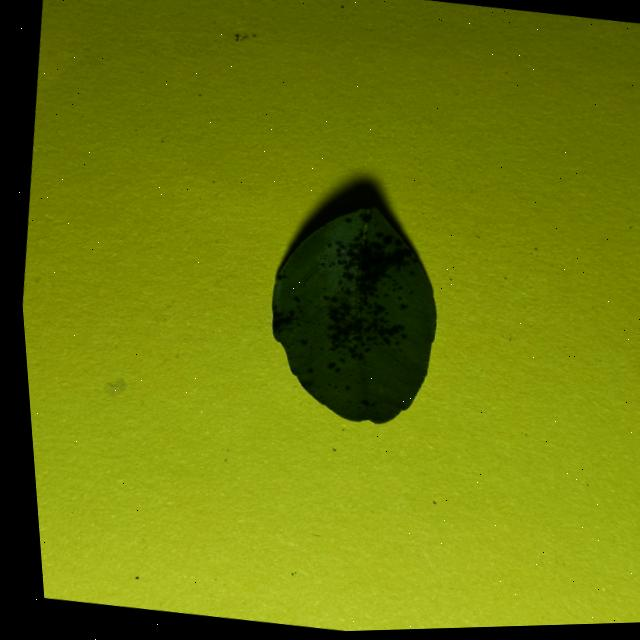sooty_mold: (272, 207, 435, 422)
